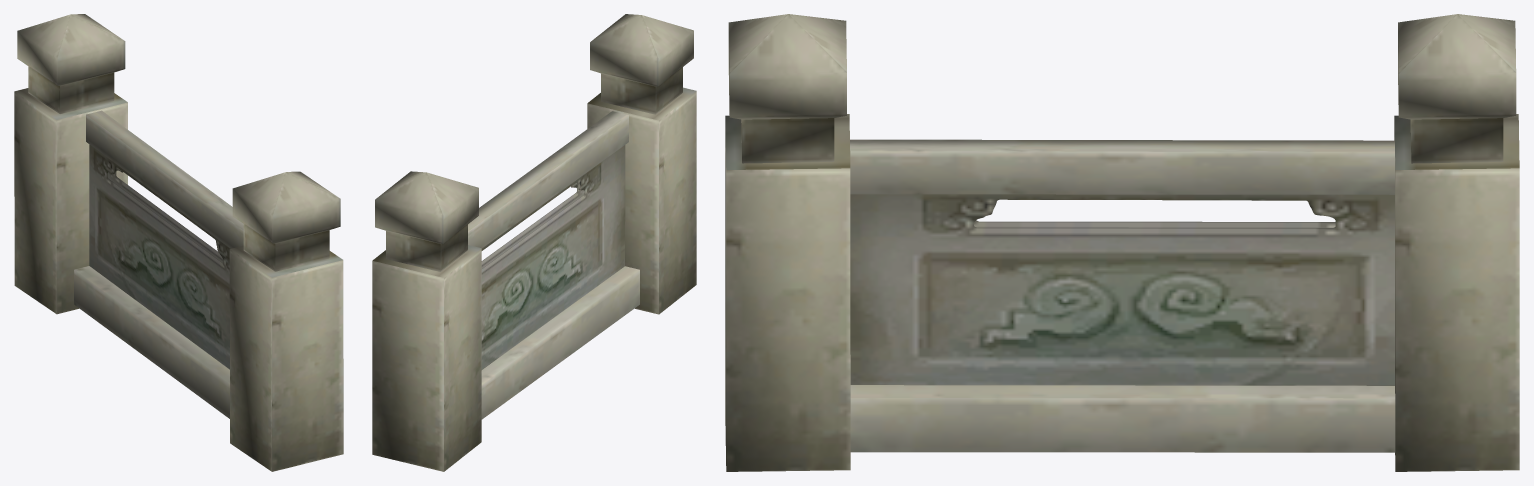
File: environment_common_Stonewall_004_b.FBX
The picture shows the model from 3 angles, left to right: view 1: azimuth 30°, elevation 25°; view 2: azimuth 150°, elevation 25°; view 3: azimuth 270°, elevation 25°; orthographic projection. The views are drawn at different scales.
Parts seen in each view (by area): view 1: environment_common_Stonewall_004_b; view 2: environment_common_Stonewall_004_b; view 3: environment_common_Stonewall_004_b.
Boxes of the visible parts, x1,y1,x2,y2 form: environment_common_Stonewall_004_b: (14,14,343,471); environment_common_Stonewall_004_b: (372,14,696,471); environment_common_Stonewall_004_b: (725,14,1519,471).
Bounding box in the file's own units: 27.12 × 96.85 × 162.
